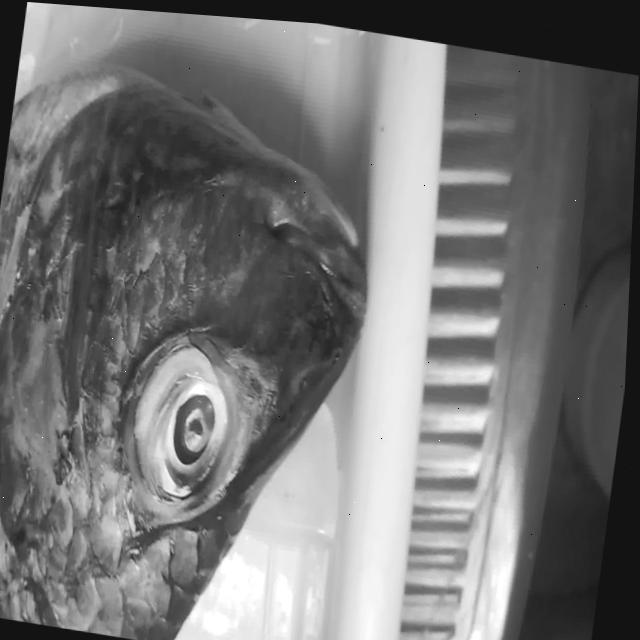Fresh: (119, 323, 258, 534)
